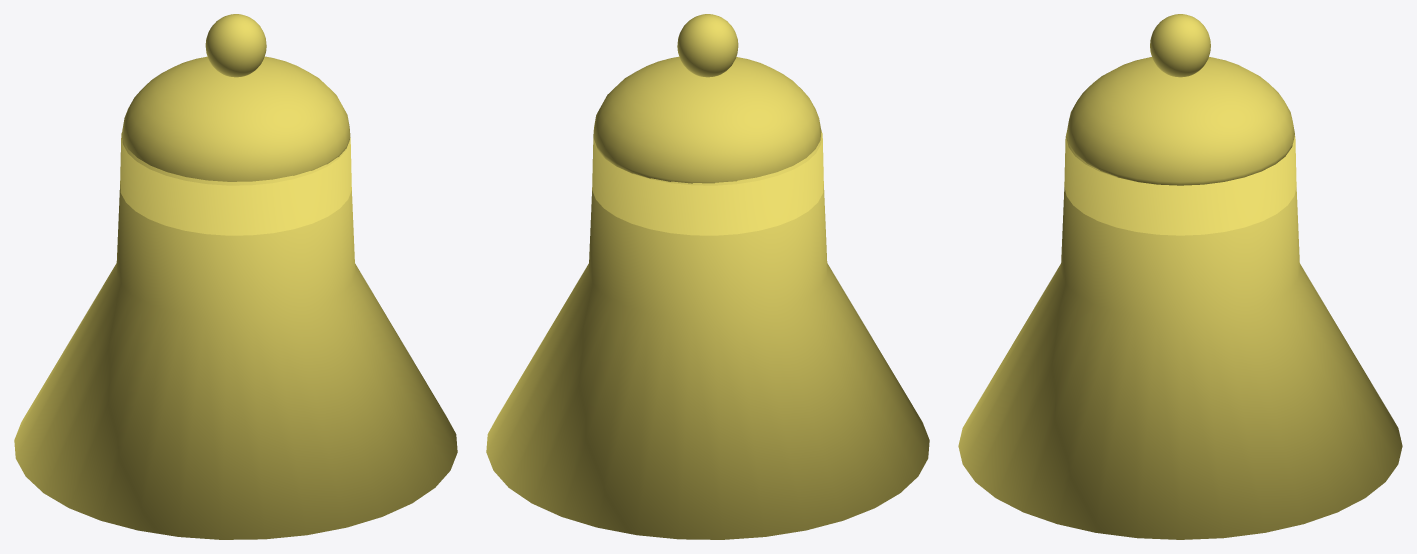
Rendered from bell.glb.
The picture shows the model from 3 angles, left to right: view 1: azimuth 30°, elevation 25°; view 2: azimuth 150°, elevation 25°; view 3: azimuth 270°, elevation 25°; orthographic projection.
Parts seen in each view (by area): view 1: Cylinder; view 2: Cylinder; view 3: Cylinder.
Part boxes in pixels (x1,y1,x2,y2): Cylinder: [14, 14, 457, 539]; Cylinder: [486, 14, 929, 539]; Cylinder: [958, 14, 1402, 539].
Bounding box in the file's own units: 2.22 × 2.37 × 2.22.
